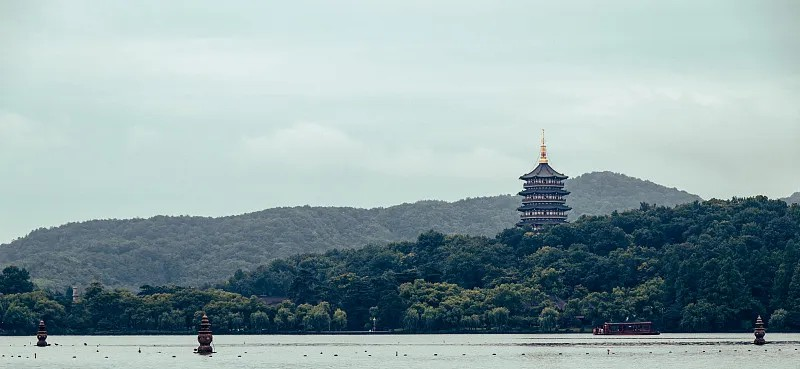Leifeng: (515, 127, 573, 230)
